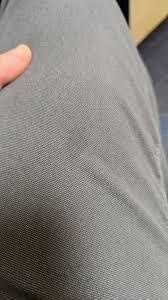oil: (58, 125, 88, 163)
